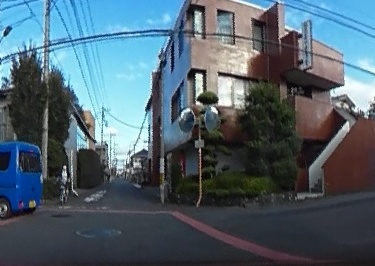person: (59, 163, 70, 204)
